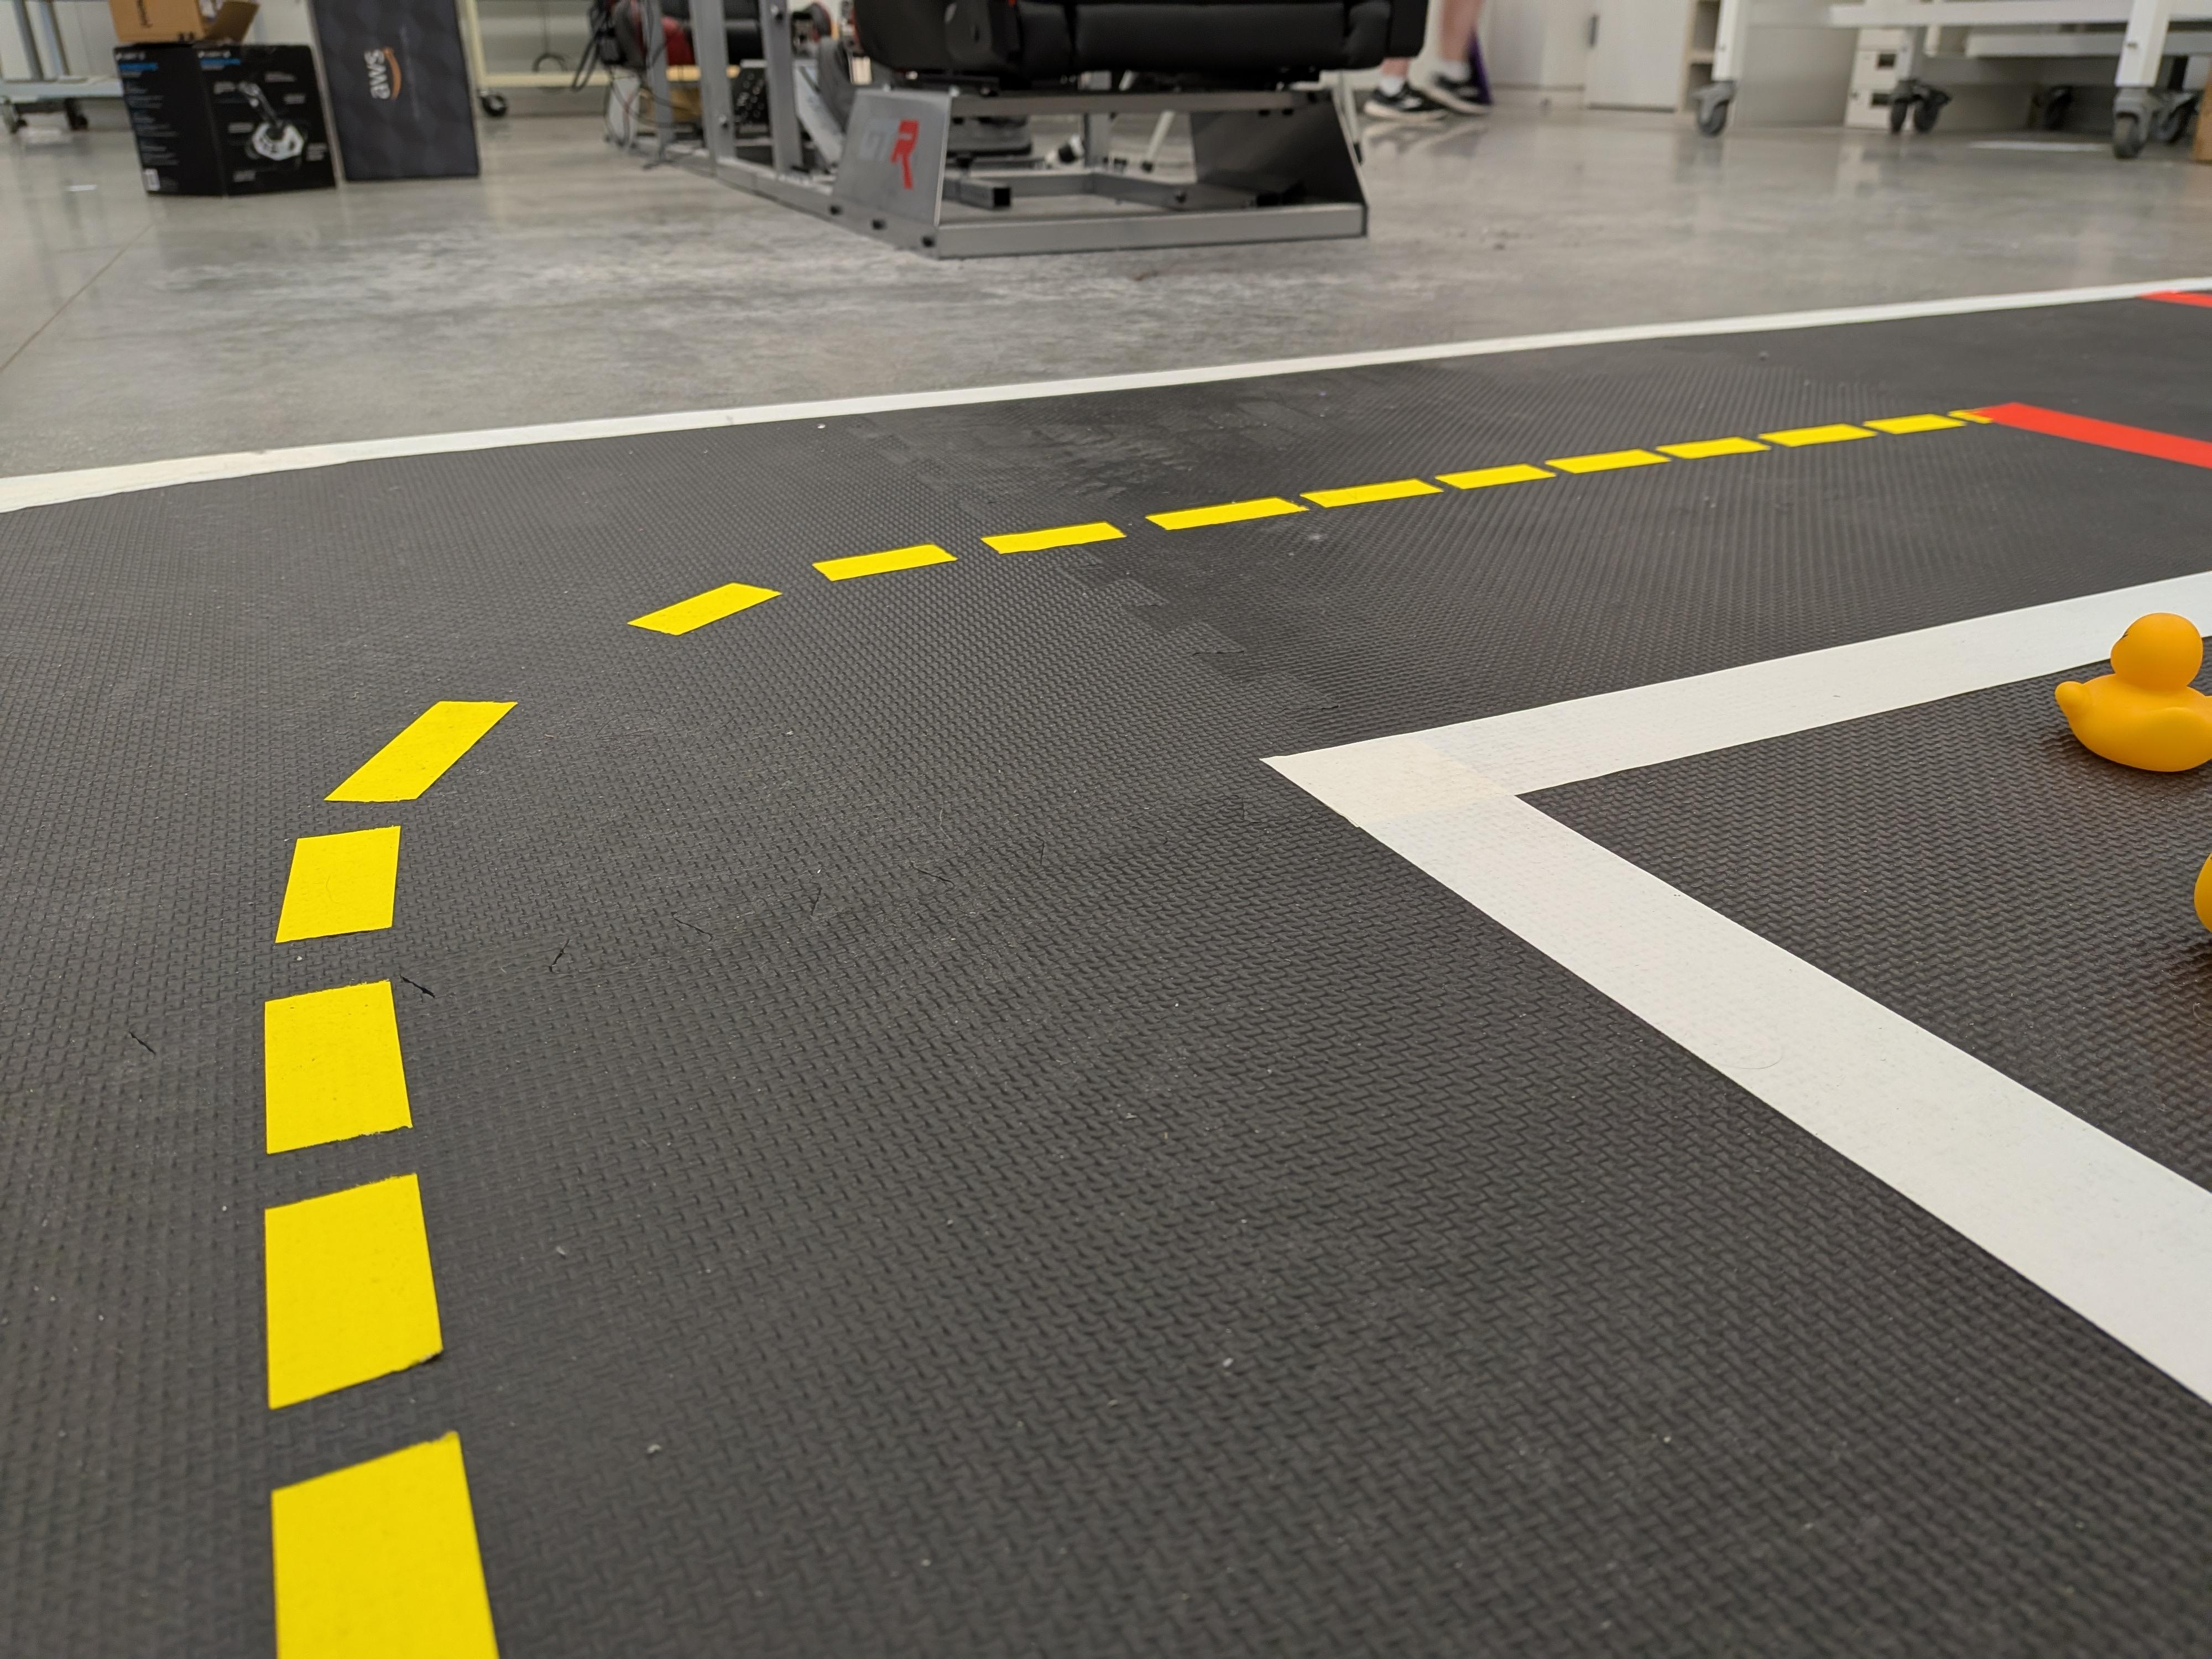peasant: (2050, 615, 2212, 775), (2191, 838, 2212, 964)
whiteline: (1258, 570, 2209, 1457), (3, 279, 2212, 519)
yellowline: (629, 411, 1984, 640), (265, 699, 516, 1659)
